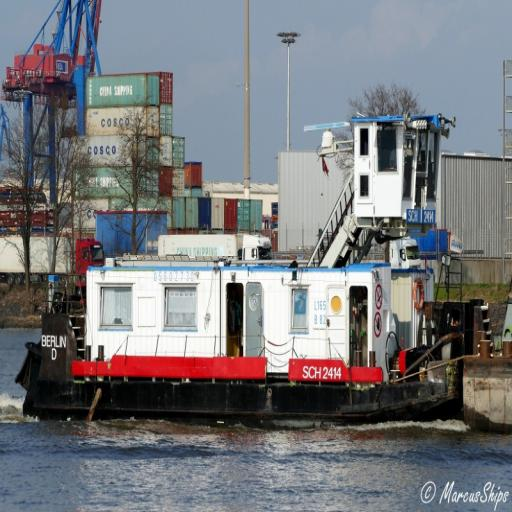tugboat: (15, 111, 473, 439)
